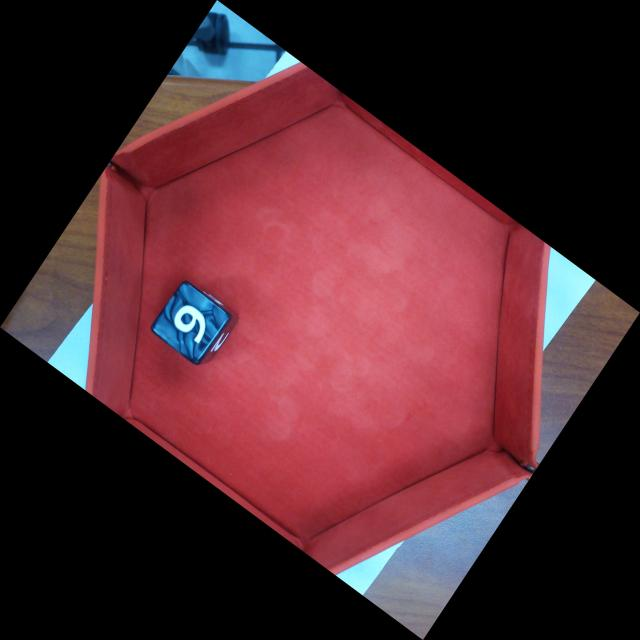dice: (152, 282, 232, 365)
